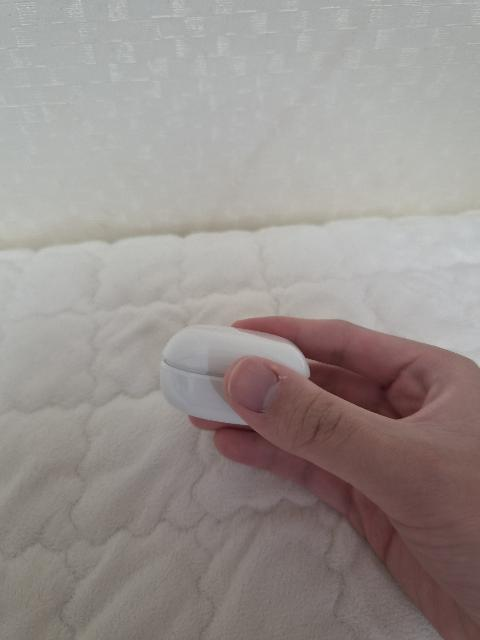earphone_case: (159, 324, 310, 426)
